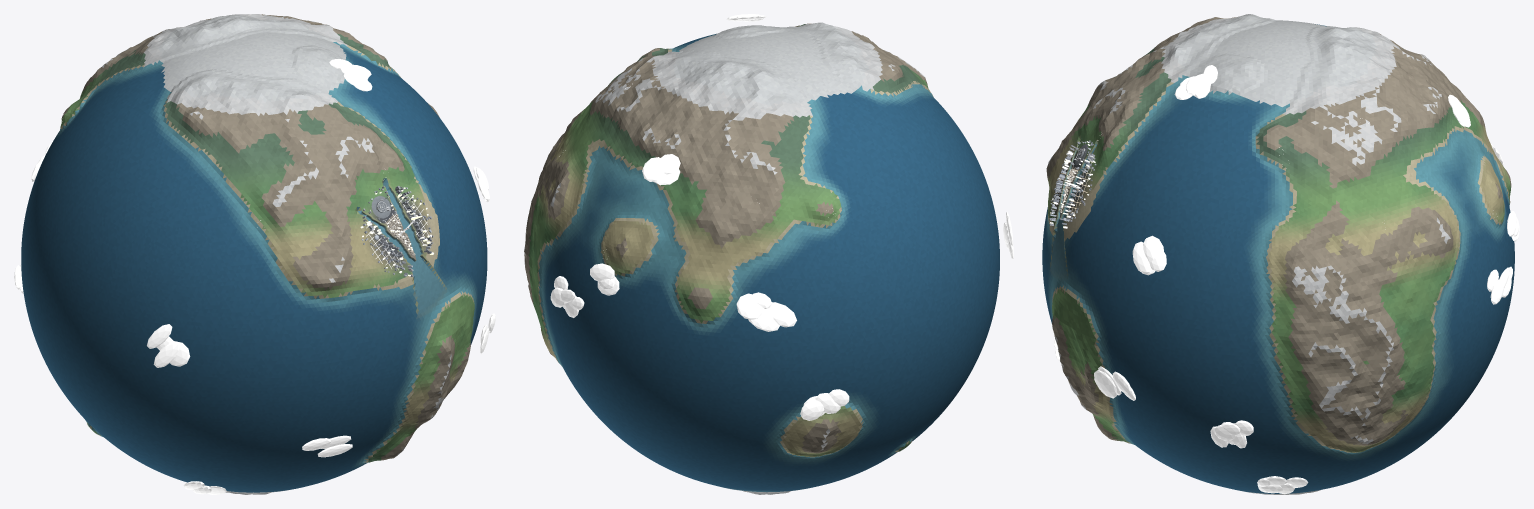
Rendered from earth.glb.
3 views of the same model, side by side, from view 1: azimuth 30°, elevation 25°; view 2: azimuth 150°, elevation 25°; view 3: azimuth 270°, elevation 25° (orthographic).
Parts seen in each view (by area): view 1: Earth, CharlestonPatch, Clouds, City_Charleston; view 2: Earth, Clouds; view 3: Earth, Clouds, CharlestonPatch, City_Charleston.
Boxes of the visible parts, x1,y1,x2,y2 form: Earth: (21, 14, 487, 494); CharlestonPatch: (360, 184, 434, 277); Clouds: (14, 59, 495, 494); City_Charleston: (360, 185, 433, 276); Earth: (524, 22, 999, 494); Clouds: (550, 14, 1013, 420); Earth: (1042, 14, 1514, 494); Clouds: (1054, 65, 1519, 494); CharlestonPatch: (1051, 139, 1097, 231); City_Charleston: (1049, 140, 1096, 228).
Size of the model in its own units: 204 by 208 by 202.
